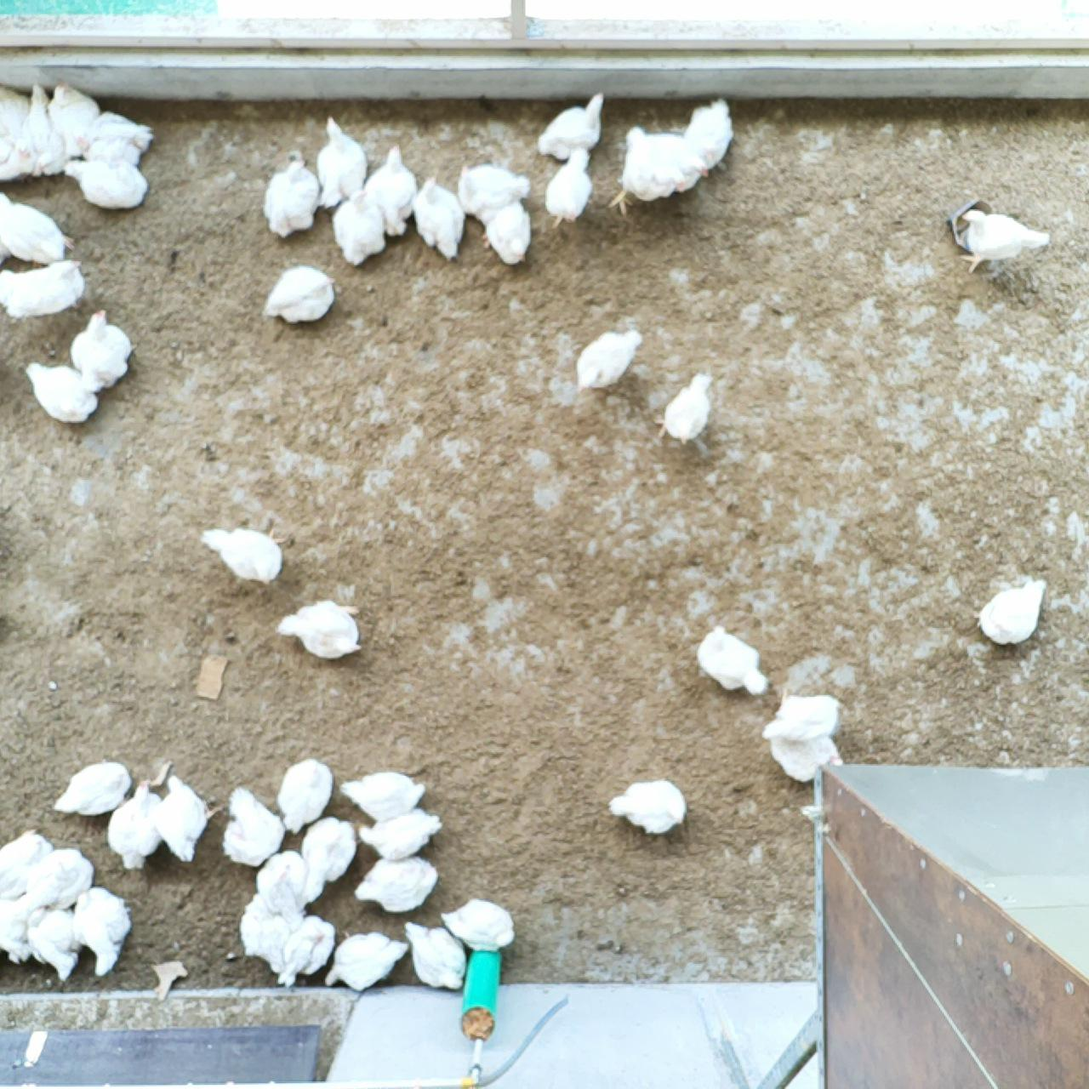chicken: (604, 125, 715, 215), (954, 204, 1051, 274), (241, 869, 306, 972), (155, 772, 225, 867), (0, 252, 94, 322), (353, 140, 419, 239), (62, 304, 136, 392), (68, 885, 137, 979), (694, 621, 773, 701), (199, 521, 294, 587), (293, 812, 361, 904), (11, 83, 75, 178), (272, 597, 366, 661), (339, 765, 430, 831), (107, 777, 167, 875), (21, 360, 110, 426), (409, 174, 470, 268), (534, 87, 609, 163), (57, 154, 154, 212), (0, 194, 78, 264), (351, 851, 440, 912), (537, 142, 599, 229), (224, 784, 289, 866), (21, 844, 97, 914), (312, 115, 368, 209), (355, 807, 450, 862), (321, 930, 408, 990), (72, 110, 156, 172), (260, 265, 341, 327), (977, 576, 1047, 647), (455, 161, 528, 229), (654, 367, 716, 447), (571, 328, 645, 395), (24, 902, 84, 984), (678, 96, 734, 180), (53, 759, 130, 820), (262, 154, 317, 238), (436, 897, 515, 955), (43, 82, 103, 158), (277, 756, 334, 836), (403, 918, 462, 995), (759, 692, 842, 746), (332, 190, 388, 268), (275, 915, 332, 988), (0, 83, 37, 185), (480, 195, 532, 266), (0, 829, 52, 900), (0, 889, 47, 966), (255, 847, 310, 908)
